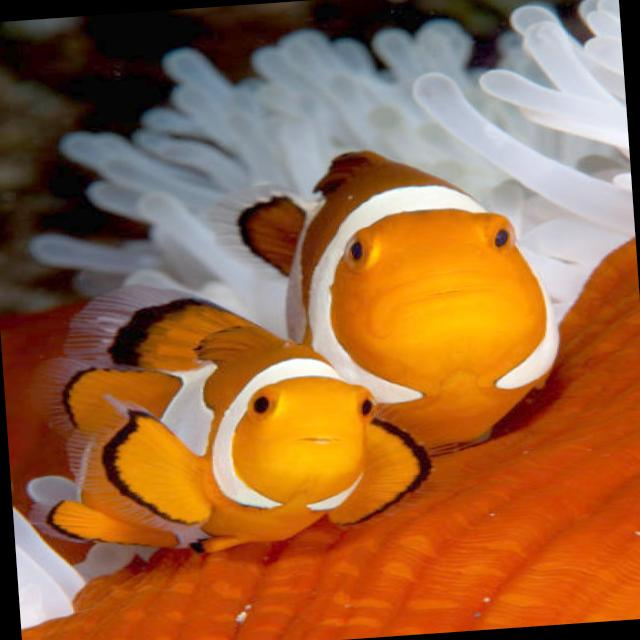ClownFish: (41, 277, 438, 558), (240, 125, 570, 442)
